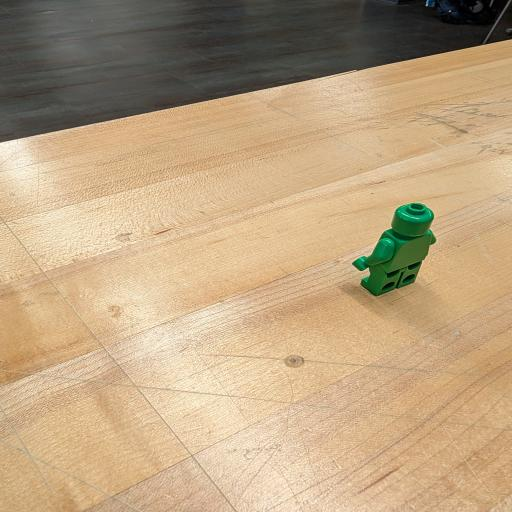Minifig: (352, 202, 436, 296)
